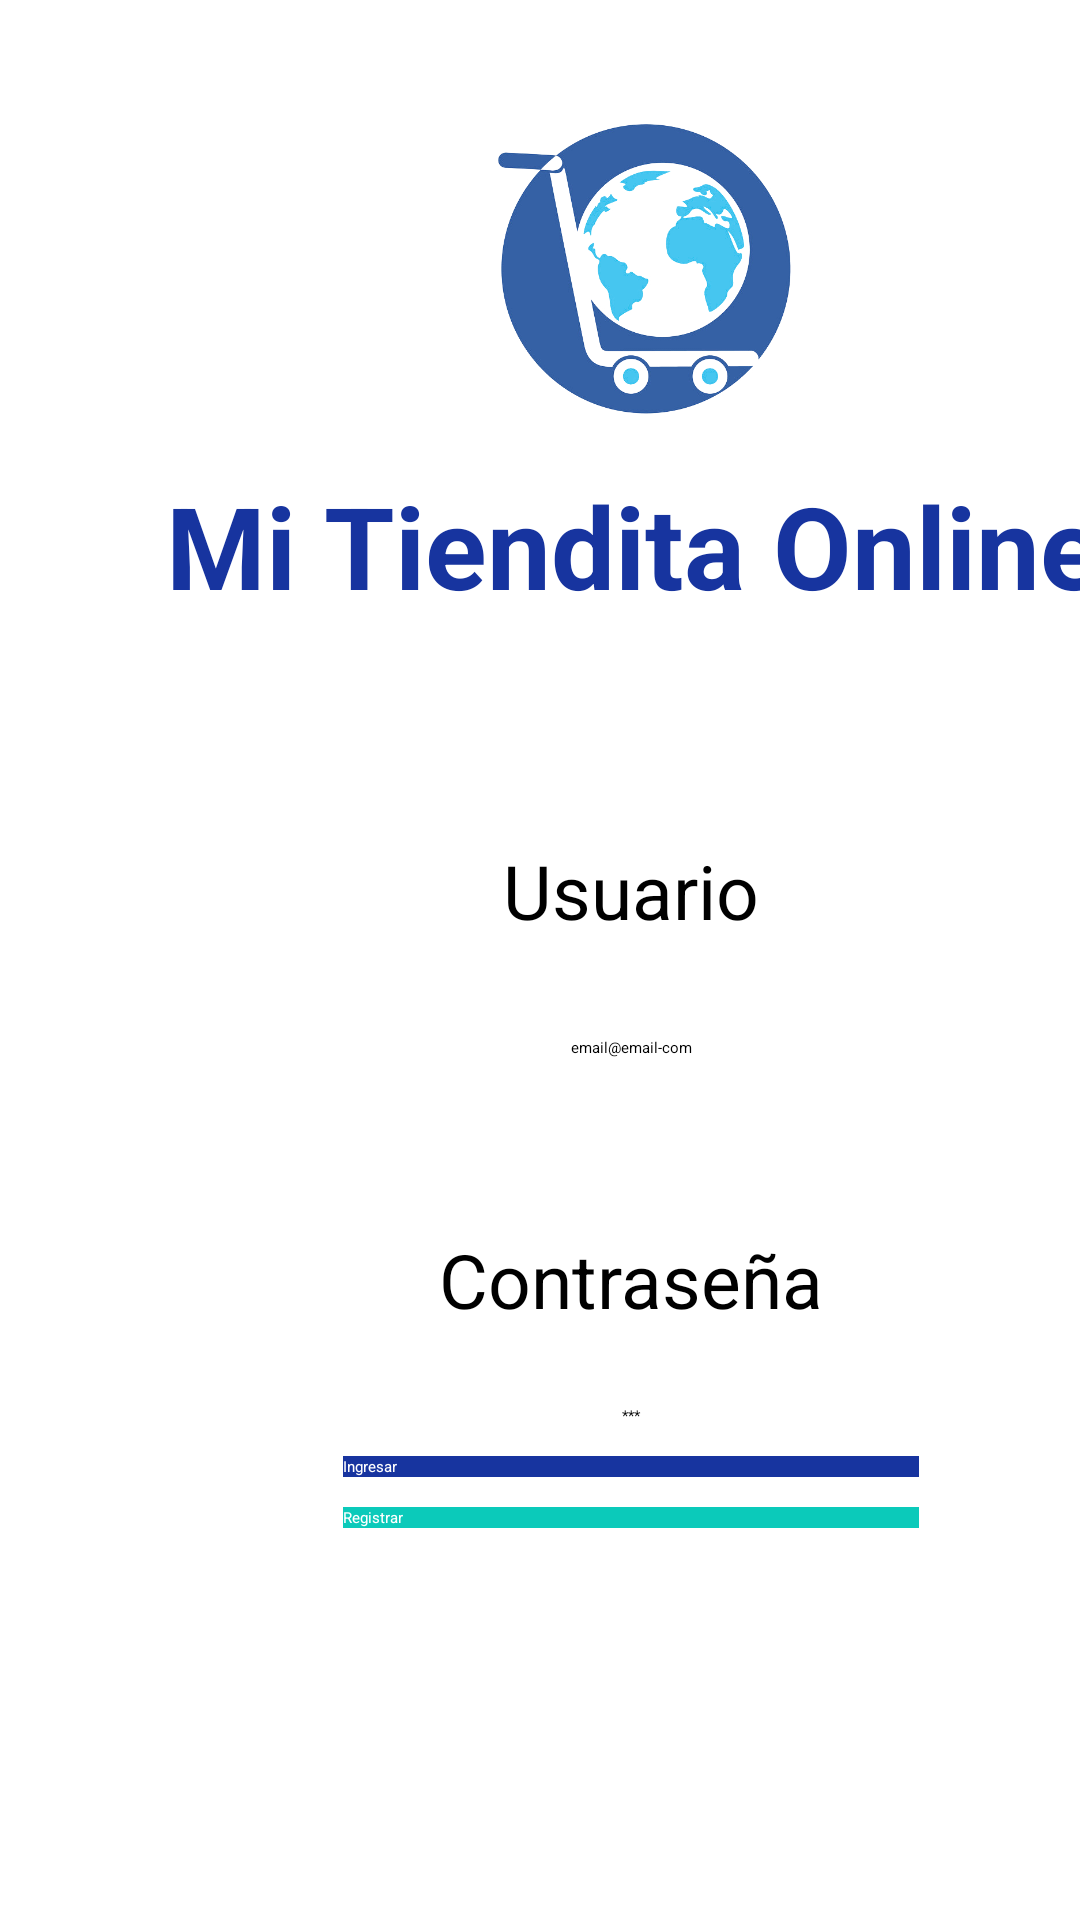

Where to tap for icons on this 1080x1920 app screen, as [x,y]:
globeshopping: [644,269]
